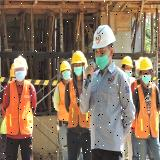Helmet: (92, 25, 116, 49), (13, 55, 30, 73), (71, 50, 86, 64), (120, 56, 134, 70), (140, 57, 153, 71), (60, 60, 72, 72)
Vest: (6, 78, 34, 136), (136, 83, 159, 140), (68, 78, 92, 130), (56, 80, 71, 123), (13, 55, 29, 71)
